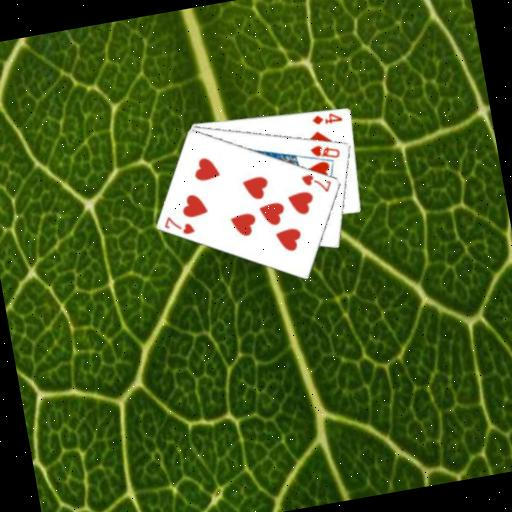4D: (308, 107, 344, 128)
7H: (297, 168, 334, 198), (160, 209, 197, 239)
QH: (307, 139, 342, 163)
